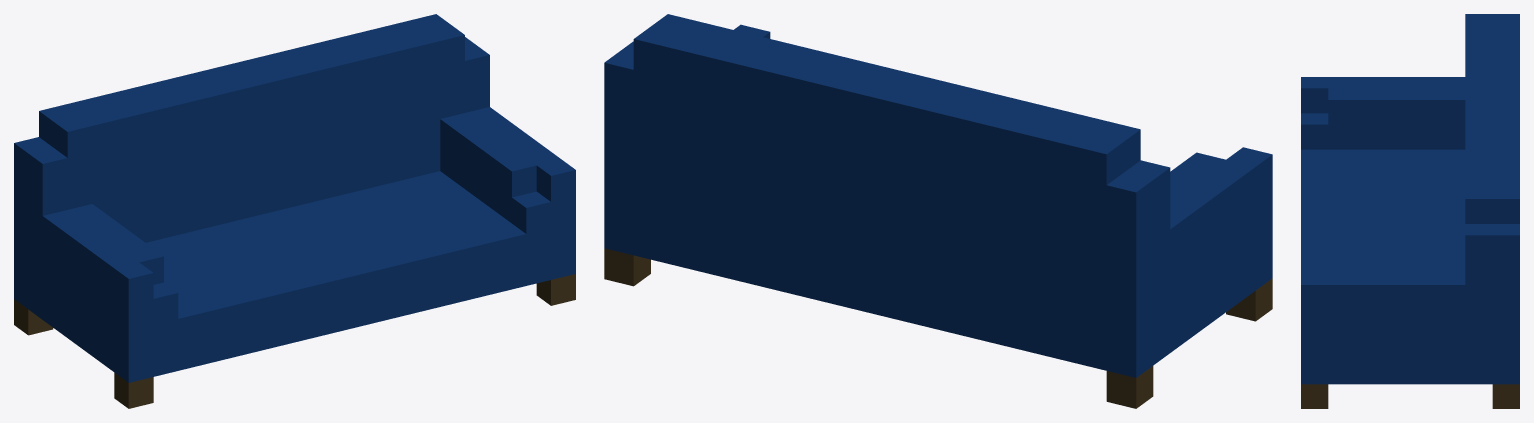
The model's file is Divan.obj.
3 views of the same model, side by side, from view 1: azimuth 30°, elevation 25°; view 2: azimuth 150°, elevation 25°; view 3: azimuth 270°, elevation 25° (orthographic). The views are drawn at different scales.
Bounding box in the file's own units: 1.8 × 0.8 × 0.8.
1 material, 1 textured.
